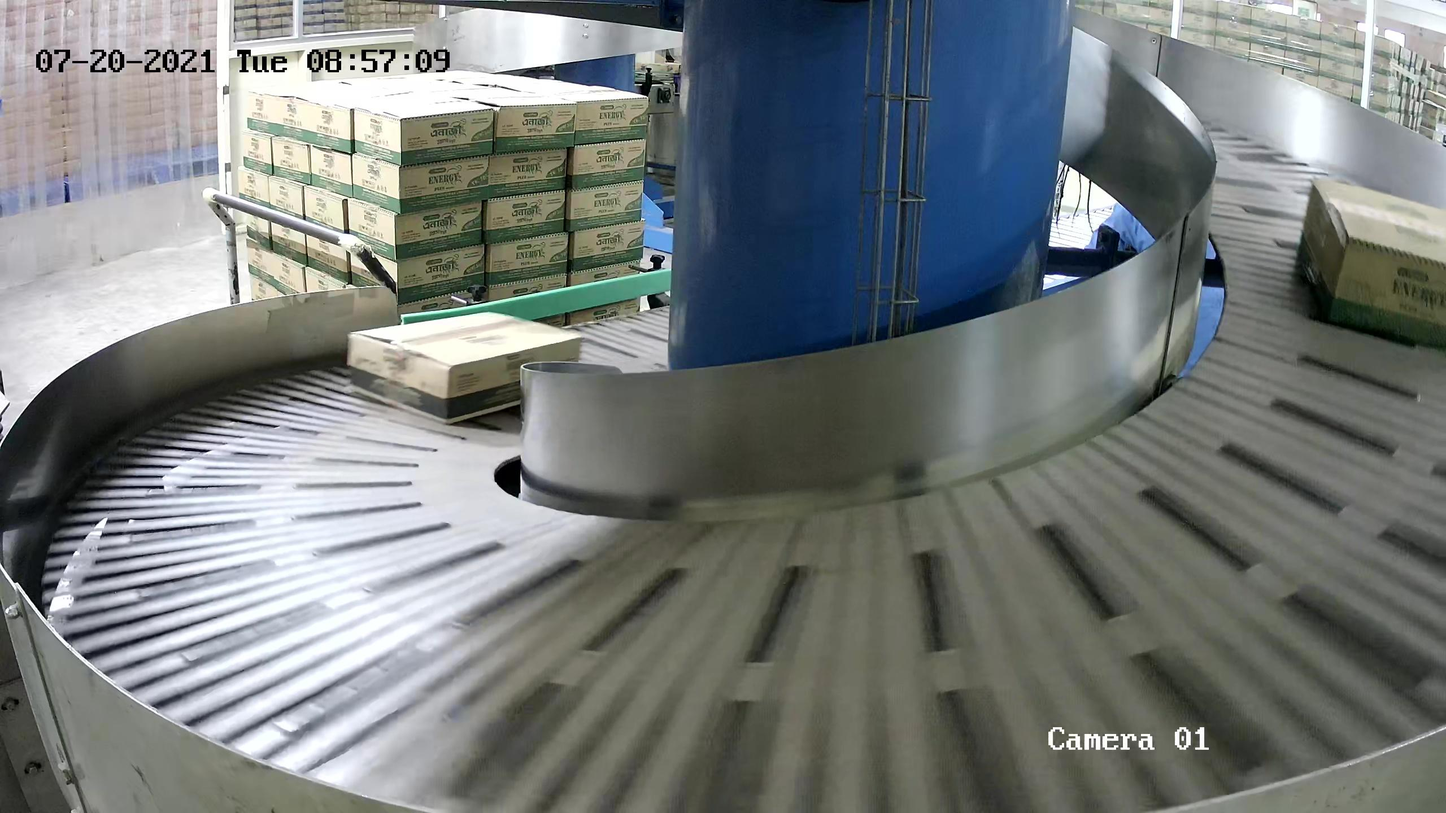Box: (1292, 175, 1446, 360), (346, 309, 584, 425)
